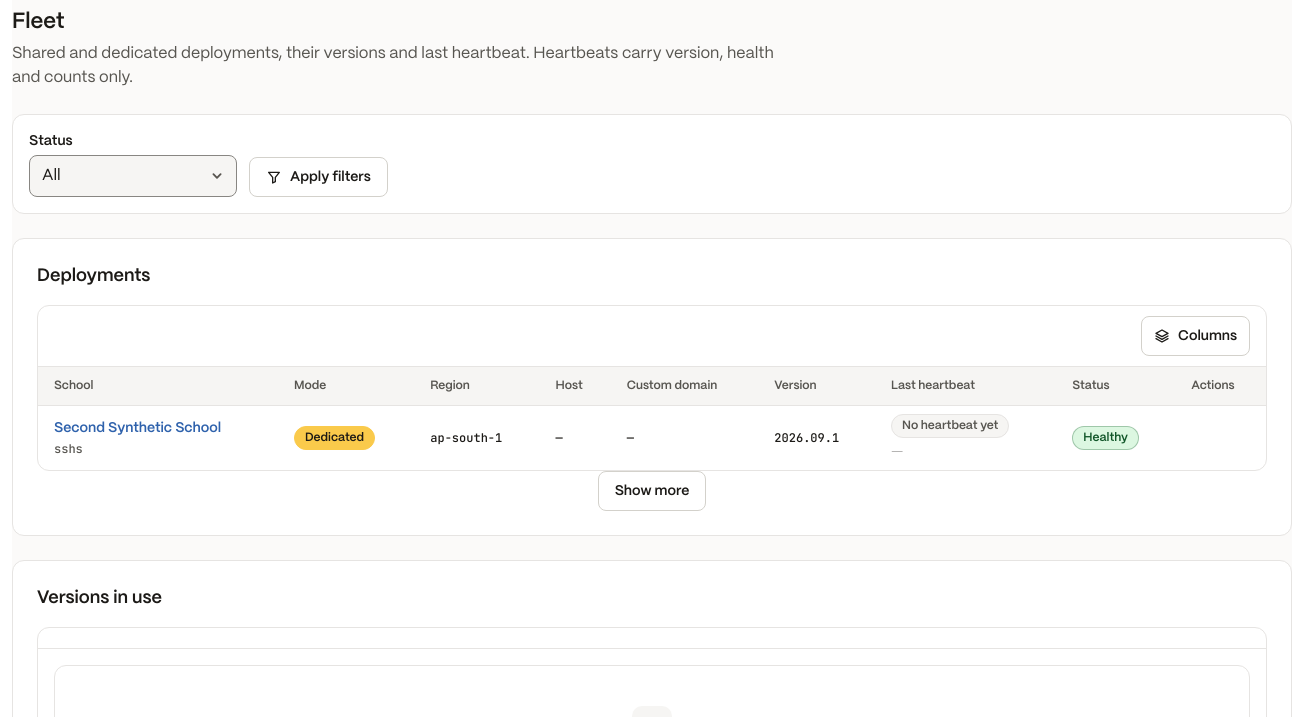
operator lists load more pages (R-14) › fleet: deployments
Expected: the link "Second Synthetic School" is shown, 54,421 -> 221,435
Expected: the text "First Synthetic School" is not shown
What coordinates should you click on to do the following:
click the button "Show more"
I would click on:
 (652, 491)
Its box is 598,471 -> 706,511.
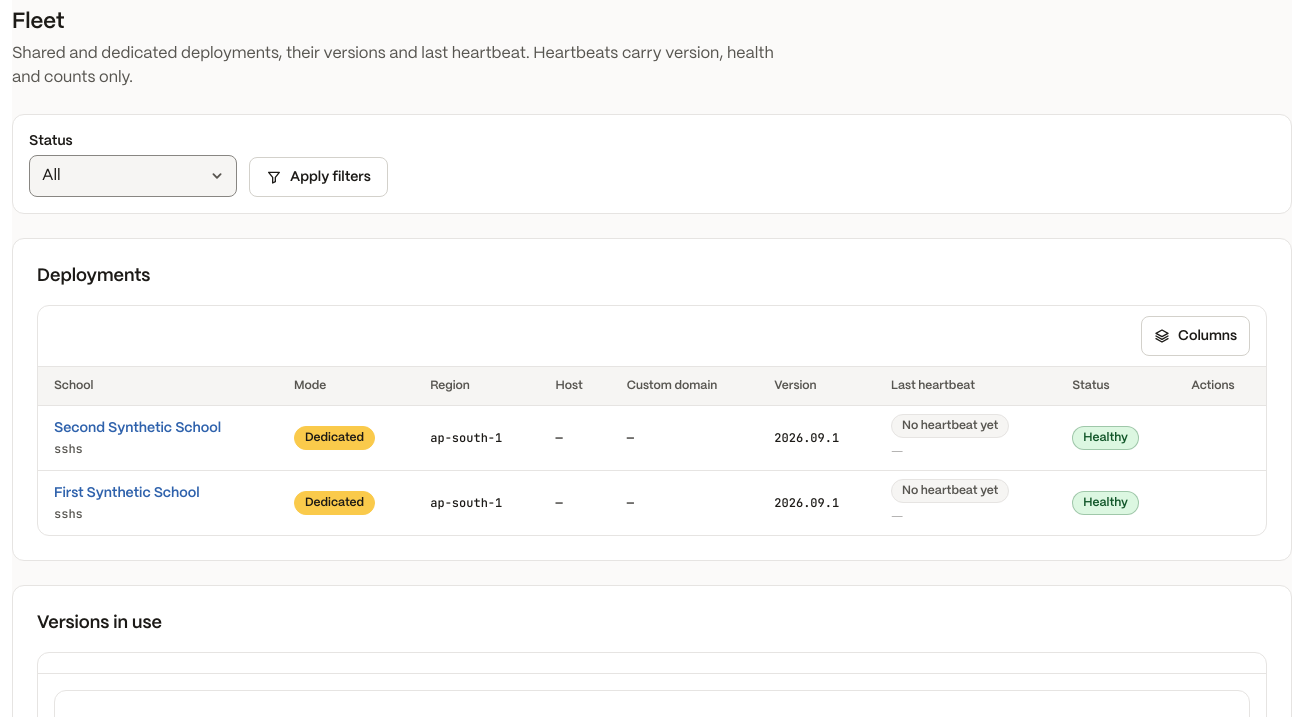
Expected: the link "Second Synthetic School" is shown, 54,421 -> 221,435
Expected: the button "Show more" is gone
Expected: the link "First Synthetic School" is shown, 54,486 -> 200,500
